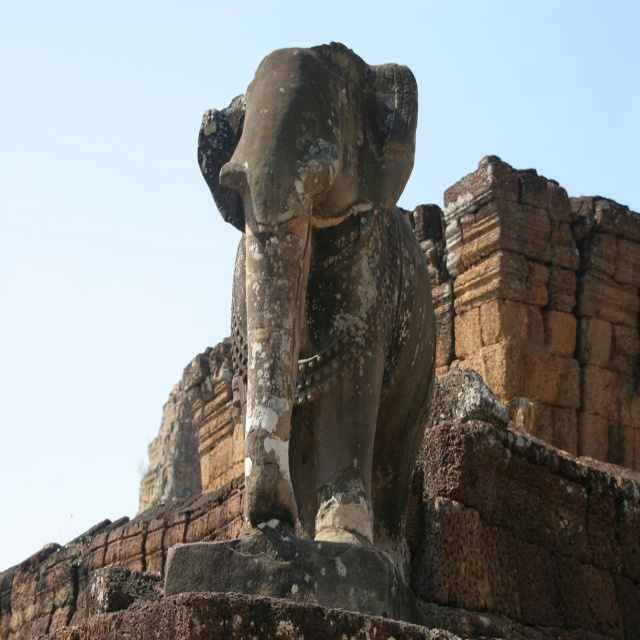Elephant: (196, 39, 437, 545)
